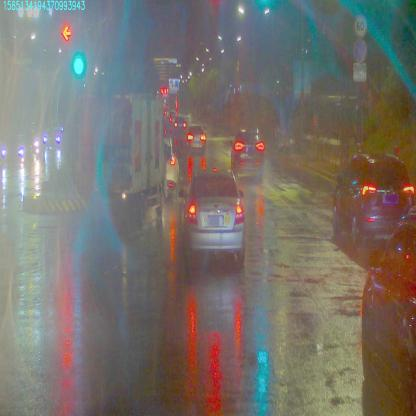traffic-light: (72, 53, 84, 75), (62, 23, 71, 45)
